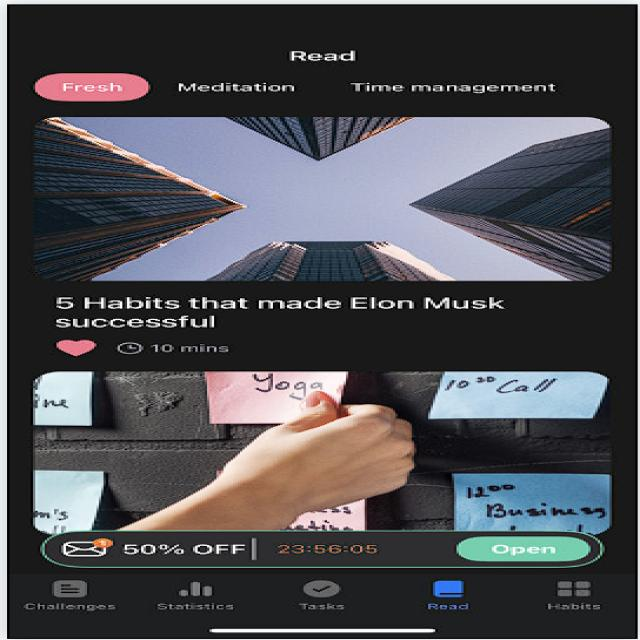icon button: (12, 572, 127, 617), (280, 572, 390, 618), (145, 572, 254, 617), (412, 572, 503, 619), (533, 571, 618, 617)
image: (24, 108, 635, 290), (21, 365, 640, 539)
text: (21, 294, 616, 358), (271, 45, 376, 71)
